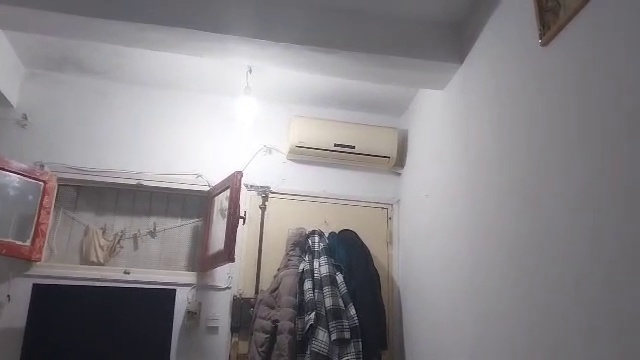air_conditioner: (285, 107, 409, 176)
